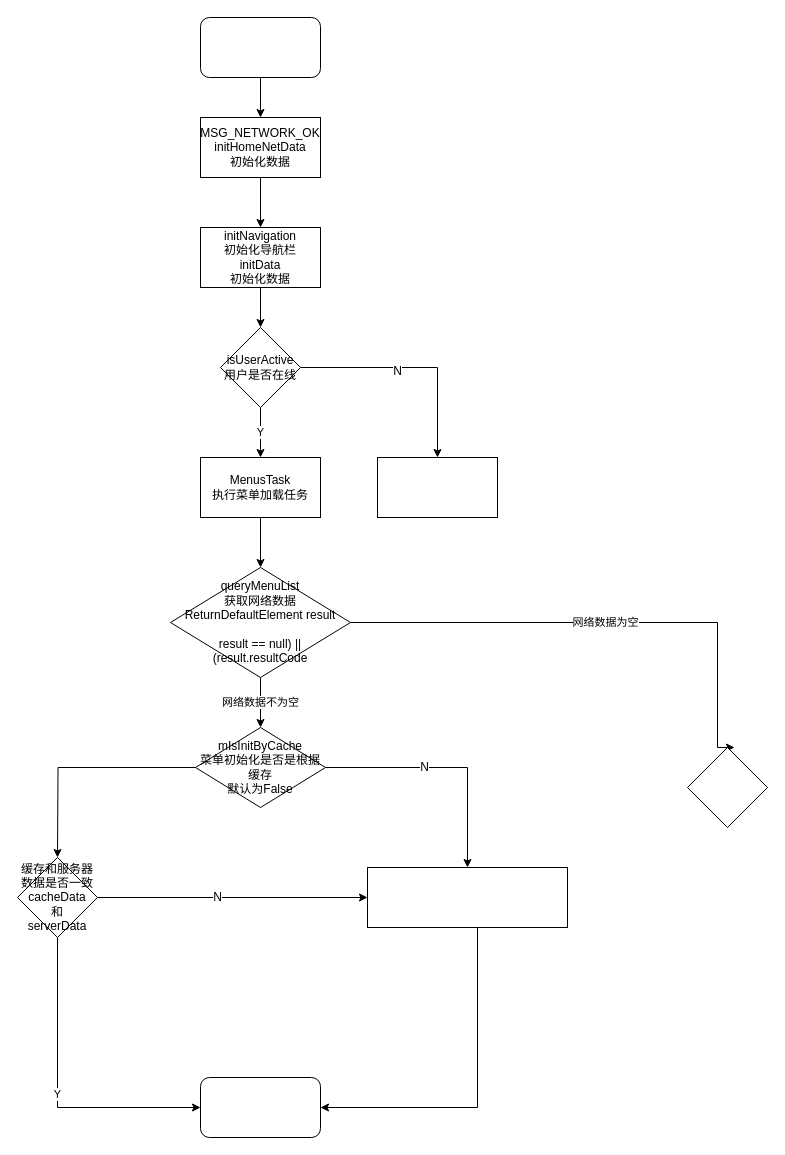
Image size: 785x1155. Some labels were removed from this diagram. Each missing label, with the centre of its shape:
"End" belongs at [260,1107].
"initMenus(result) mIsInitByCache = false 然后再将菜单最新数据写入到缓存中" belongs at [467,897].
"离线模式" belongs at [437,487].
"菜单加载逻辑" belongs at [260,47].
